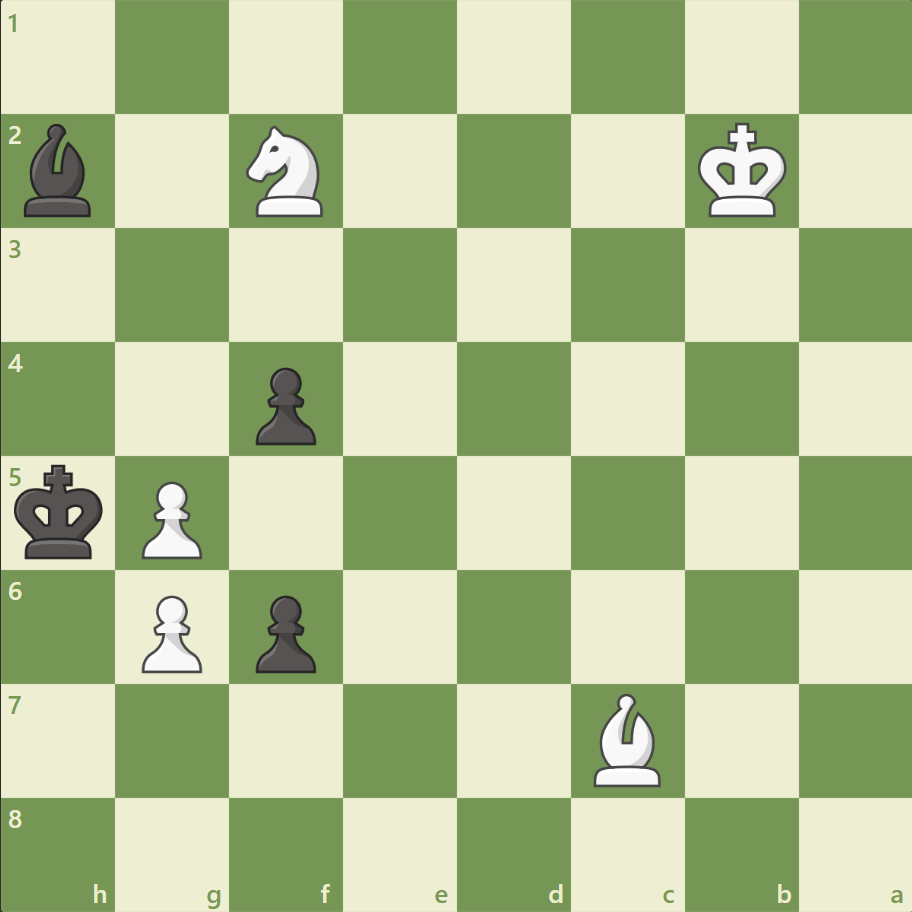B: (585, 687, 669, 790)
K: (692, 117, 792, 225)
N: (238, 121, 335, 223)
P: (133, 586, 208, 677), (133, 473, 208, 564)
b: (17, 120, 101, 222)
k: (11, 458, 111, 566)
p: (247, 586, 322, 677), (247, 359, 322, 450)
